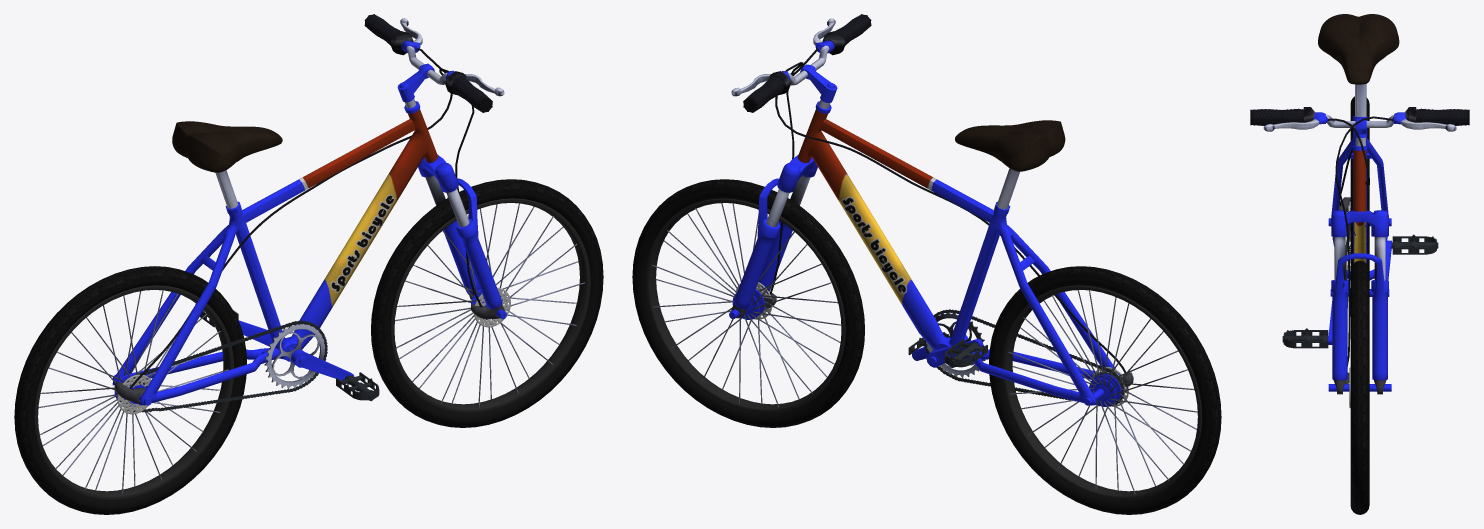
File: Bike.fbx
The picture shows the model from 3 angles, left to right: view 1: azimuth 30°, elevation 25°; view 2: azimuth 150°, elevation 25°; view 3: azimuth 270°, elevation 25°; orthographic projection. The views are drawn at different scales.
Parts seen in each view (by area): view 1: _bicycle_v2_L1:bicycle, _bicycle_v2_L1:Wheel_front, _bicycle_v2_L1:Wheel_back, _bicycle_v2_L1:Object003, _bicycle_v2_L1:Object001; view 2: _bicycle_v2_L1:bicycle, _bicycle_v2_L1:Wheel_back, _bicycle_v2_L1:Wheel_front, _bicycle_v2_L1:Object003, _bicycle_v2_L1:Object001; view 3: _bicycle_v2_L1:bicycle, _bicycle_v2_L1:Wheel_front, _bicycle_v2_L1:Object003, _bicycle_v2_L1:Wheel_back, _bicycle_v2_L1:Object001.
Boxes of the visible parts, left/top/right/bottom form: _bicycle_v2_L1:bicycle: left=112, top=14, right=506, bottom=412; _bicycle_v2_L1:Wheel_front: left=371, top=179, right=603, bottom=427; _bicycle_v2_L1:Wheel_back: left=14, top=266, right=246, bottom=514; _bicycle_v2_L1:Object003: left=172, top=121, right=282, bottom=172; _bicycle_v2_L1:Object001: left=129, top=68, right=452, bottom=388; _bicycle_v2_L1:bicycle: left=729, top=14, right=1124, bottom=406; _bicycle_v2_L1:Wheel_back: left=989, top=266, right=1221, bottom=514; _bicycle_v2_L1:Wheel_front: left=632, top=179, right=864, bottom=427; _bicycle_v2_L1:Object003: left=955, top=120, right=1065, bottom=171; _bicycle_v2_L1:Object001: left=775, top=48, right=1126, bottom=372; _bicycle_v2_L1:bicycle: left=1250, top=84, right=1469, bottom=394; _bicycle_v2_L1:Wheel_front: left=1349, top=261, right=1369, bottom=514; _bicycle_v2_L1:Object003: left=1318, top=14, right=1399, bottom=84; _bicycle_v2_L1:Wheel_back: left=1349, top=96, right=1369, bottom=269; _bicycle_v2_L1:Object001: left=1328, top=118, right=1369, bottom=205.
Size of the model in its own units: 64.38 by 40.45 by 21.83.
